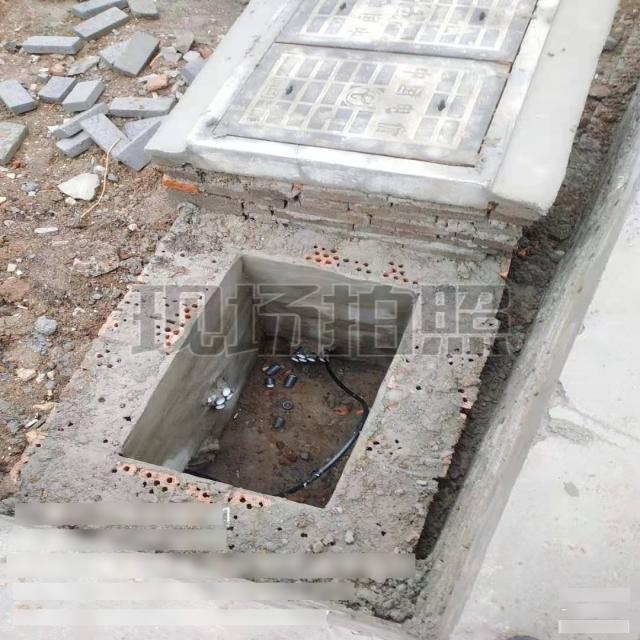Good: (191, 1, 559, 183)
Uncovered: (111, 249, 419, 509)
